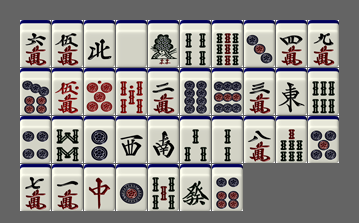0m: (52, 68, 83, 115)
0p: (84, 68, 115, 115)
0s: (116, 68, 147, 115)
1m: (52, 164, 83, 211)
1p: (116, 164, 147, 211)
1s: (148, 20, 179, 67)
1z: (276, 68, 307, 115)
2m: (148, 68, 179, 115)
2p: (84, 116, 115, 163)
2s: (212, 116, 243, 163)
2z: (148, 116, 179, 163)
3m: (244, 68, 275, 115)
3p: (244, 20, 275, 67)
3s: (180, 116, 211, 163)
3z: (116, 116, 147, 163)
4m: (276, 20, 307, 67)
4p: (20, 116, 51, 163)
4s: (180, 20, 211, 67)
4z: (84, 20, 115, 67)
5m: (52, 20, 83, 67)
5p: (308, 116, 339, 163)
5s: (148, 164, 179, 211)
5z: (116, 20, 147, 67)
6m: (20, 20, 51, 67)
6p: (212, 164, 243, 211)
6s: (308, 68, 339, 115)
6z: (180, 164, 211, 211)
7m: (20, 164, 51, 211)
7p: (20, 68, 51, 115)
7s: (276, 116, 307, 163)
7z: (84, 164, 115, 211)
8m: (244, 116, 275, 163)
8p: (180, 68, 211, 115)
8s: (52, 116, 83, 163)
9m: (308, 20, 339, 67)
9p: (212, 68, 243, 115)
9s: (212, 20, 243, 67)
